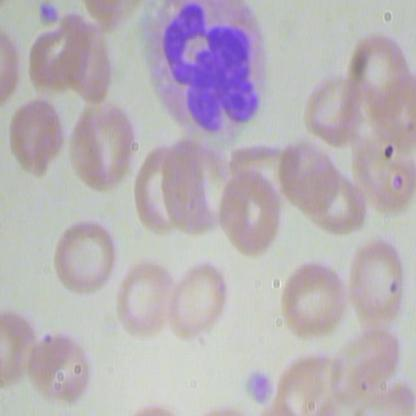Platelets: (245, 368, 274, 407), (34, 1, 60, 29)
RBC: (66, 98, 137, 202), (338, 237, 408, 337), (25, 10, 97, 97), (282, 253, 352, 340), (216, 172, 283, 261), (168, 255, 231, 347), (50, 217, 115, 297), (27, 332, 93, 410), (1, 97, 67, 175), (279, 139, 345, 214), (347, 32, 413, 107), (119, 257, 176, 339)
WBC: (137, 1, 273, 145)
